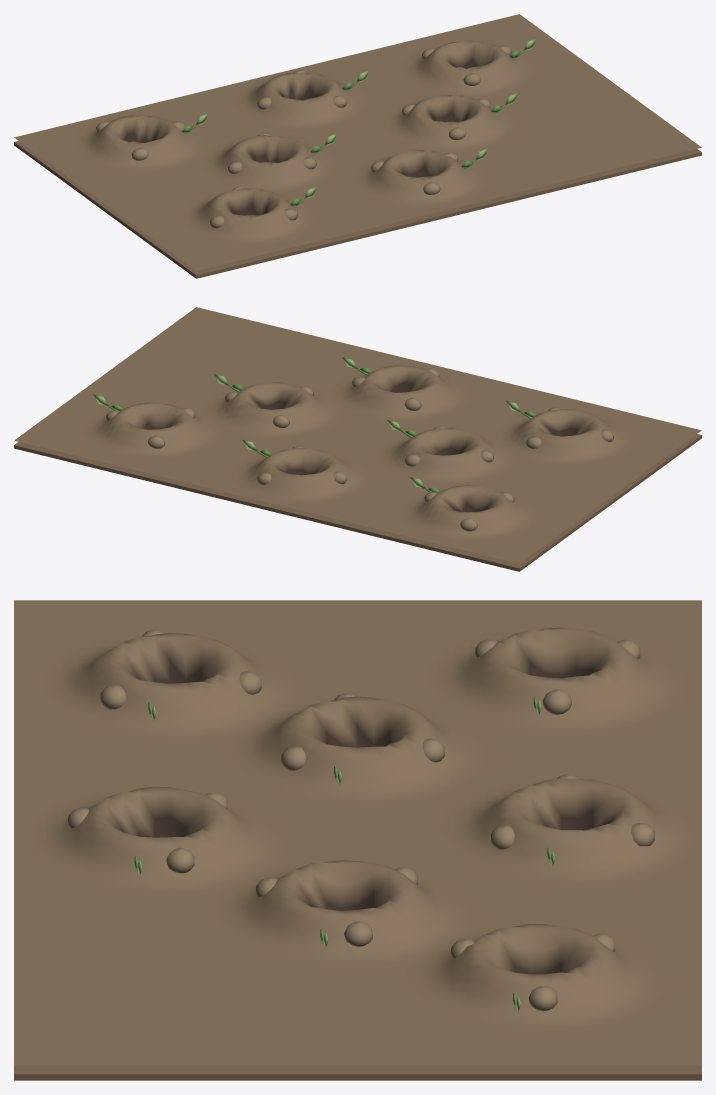
Rendered from field_stage0.glb.
3 views of the same model, one above another, from view 1: azimuth 30°, elevation 25°; view 2: azimuth 150°, elevation 25°; view 3: azimuth 270°, elevation 25° (orthographic). The views are drawn at different scales.
Bounding box in the file's own units: 8 × 0.4 × 5.
